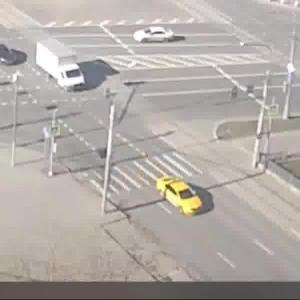car: (31, 34, 88, 91), (159, 176, 206, 211), (134, 19, 175, 50), (1, 41, 22, 64)
